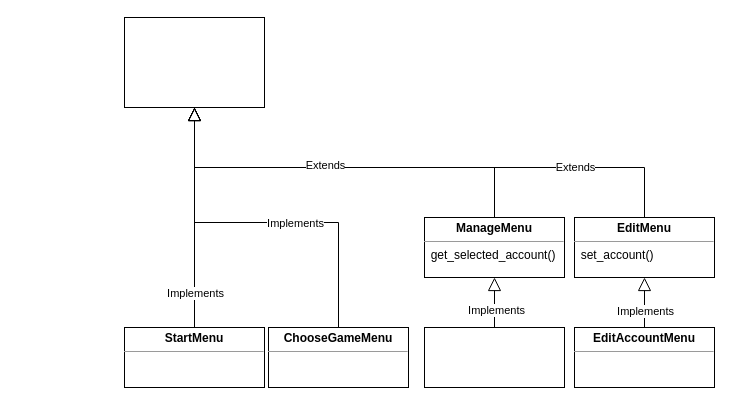
This 732x405 diagram has some shape labels left out. The shapes that lost their labels are listed below. From the top down, each one's box as (x1, y1, x2, y2) in pixels, then its label:
(124, 16, 264, 108): GenericMenu change_menu() run()
(424, 326, 564, 388): ManageAccountMenu
